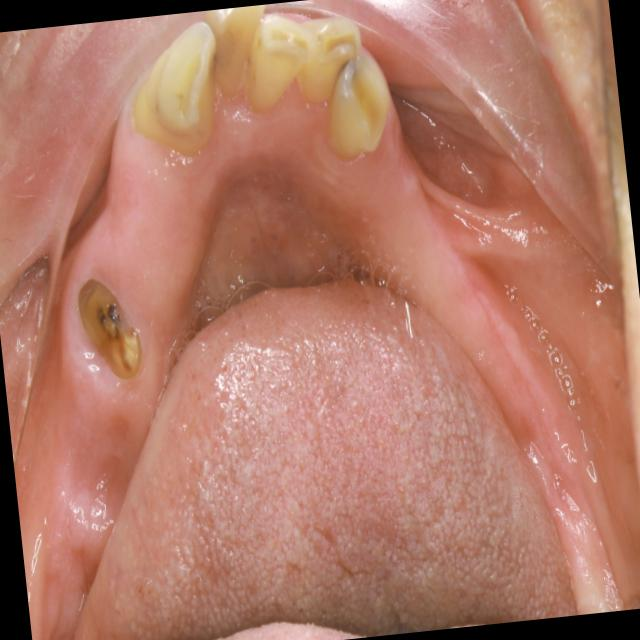tooth: (117, 10, 233, 185), (56, 261, 158, 400), (312, 29, 403, 178), (194, 3, 289, 127), (233, 0, 324, 121), (290, 2, 373, 129)
